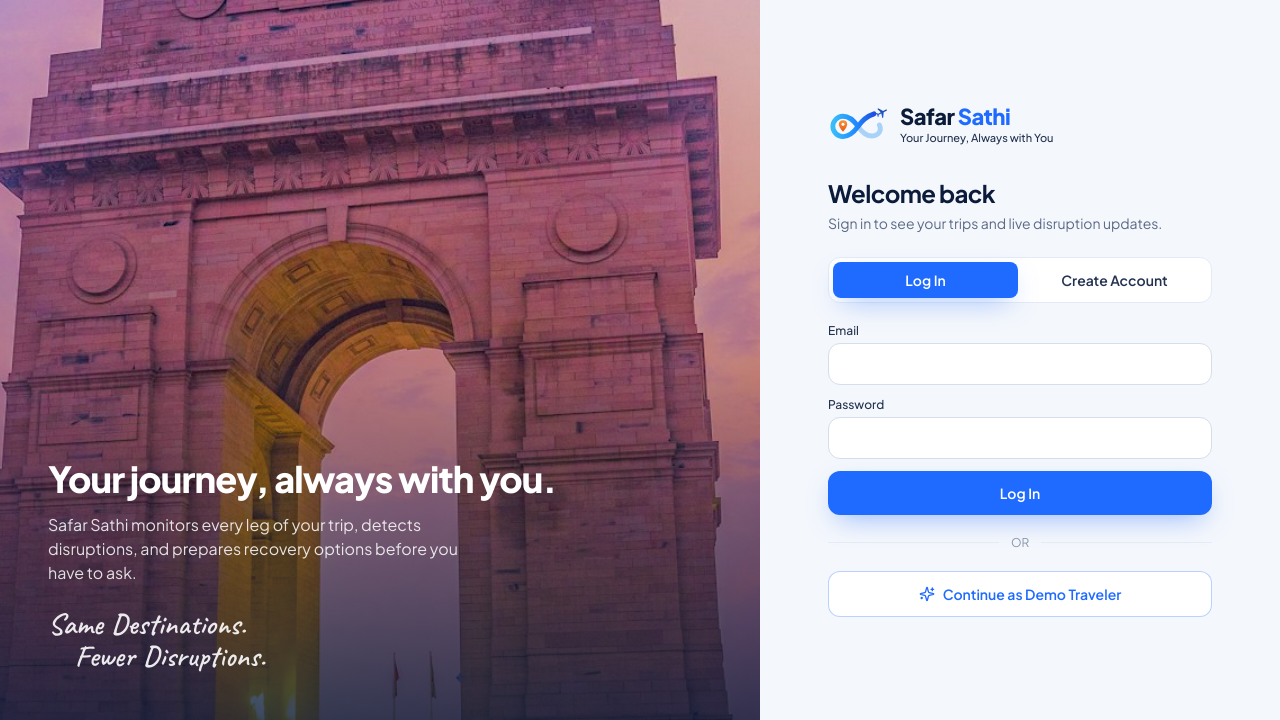
Scenario: LoginScreen password strength › keeps Create Account disabled until the password meets every rule
This screenshot has width=1280, height=720.
Step 1. Click the button "Create Account" → (1114, 280), box x1=1022 y1=262 x2=1207 y2=298
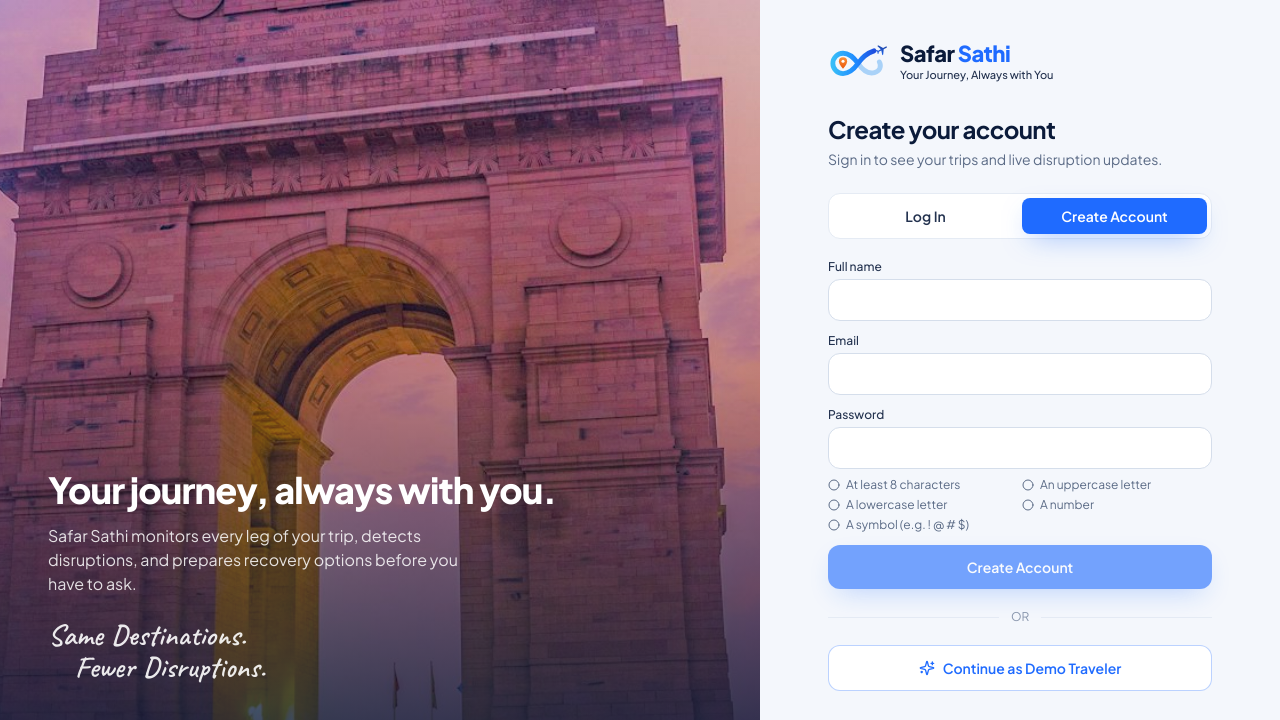
Step 2. Type "password" into the password field labelled "Password" → (1020, 448), box x1=828 y1=427 x2=1212 y2=469
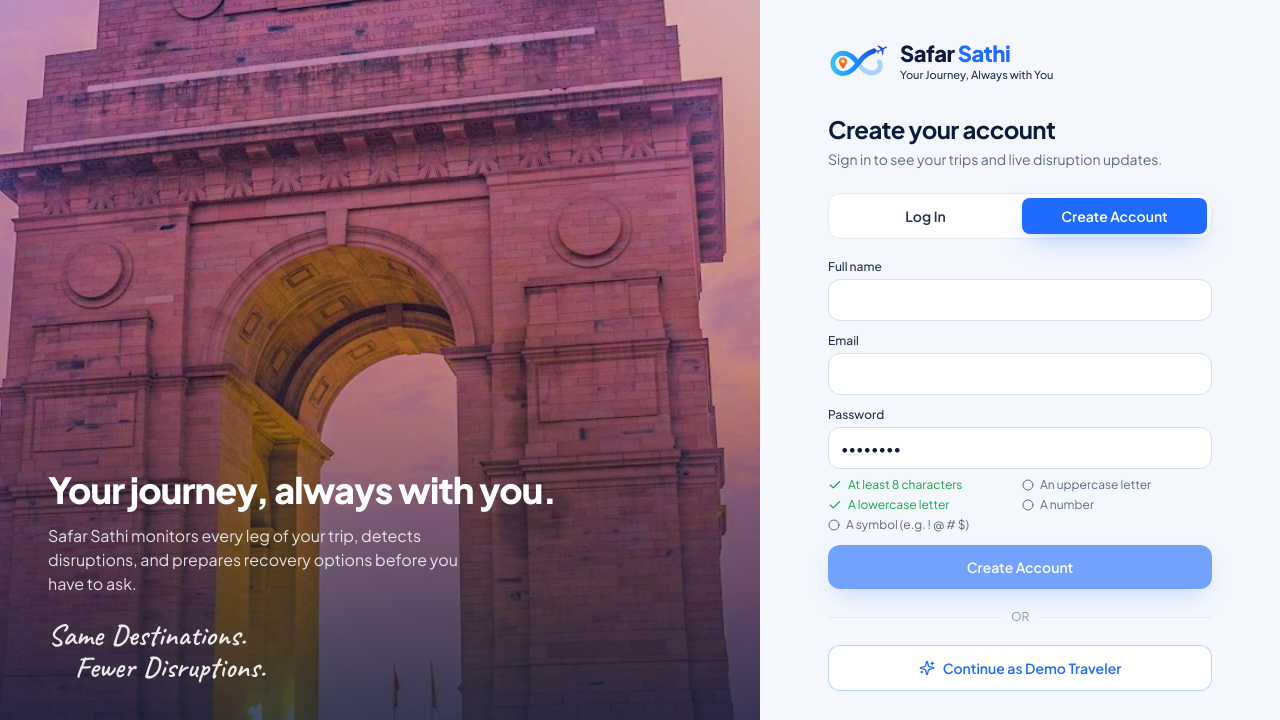
Check: the button "Create Account" below "A symbol (e.g. ! @ # $)" is disabled, box x1=828 y1=545 x2=1212 y2=589
Step 3. Type "Str0ng!Pass" into the password field labelled "Password" → (1020, 448), box x1=828 y1=427 x2=1212 y2=469
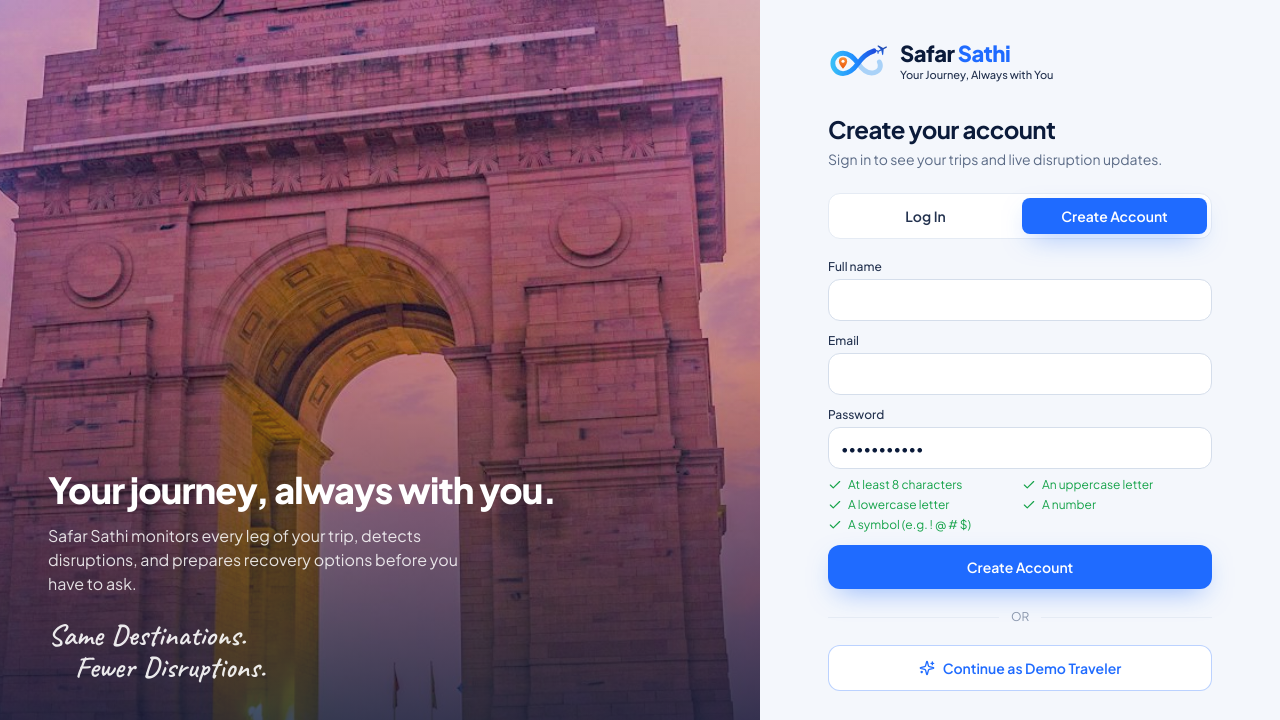
Check: the list named "Password requirements" does not show "(missing)", box x1=828 y1=477 x2=1212 y2=533
Check: the button "Create Account" below "A symbol (e.g. ! @ # $)" is enabled, box x1=828 y1=545 x2=1212 y2=589
